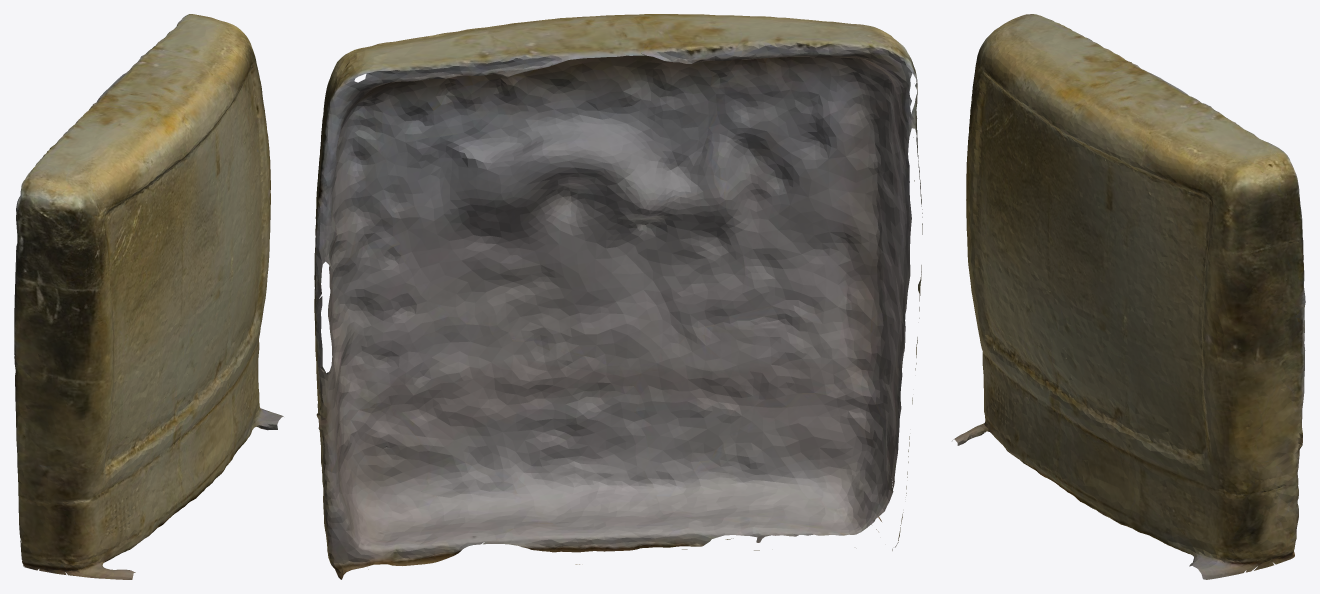
File: gold1-2048.glb
3 renders of one model, left to right at view 1: azimuth 30°, elevation 25°; view 2: azimuth 150°, elevation 25°; view 3: azimuth 270°, elevation 25°, orthographic. The views are drawn at different scales.
Bounding box in the file's own units: 0.1775 × 0.1868 × 0.1479.
Materials: 1 (1 with a texture image).
